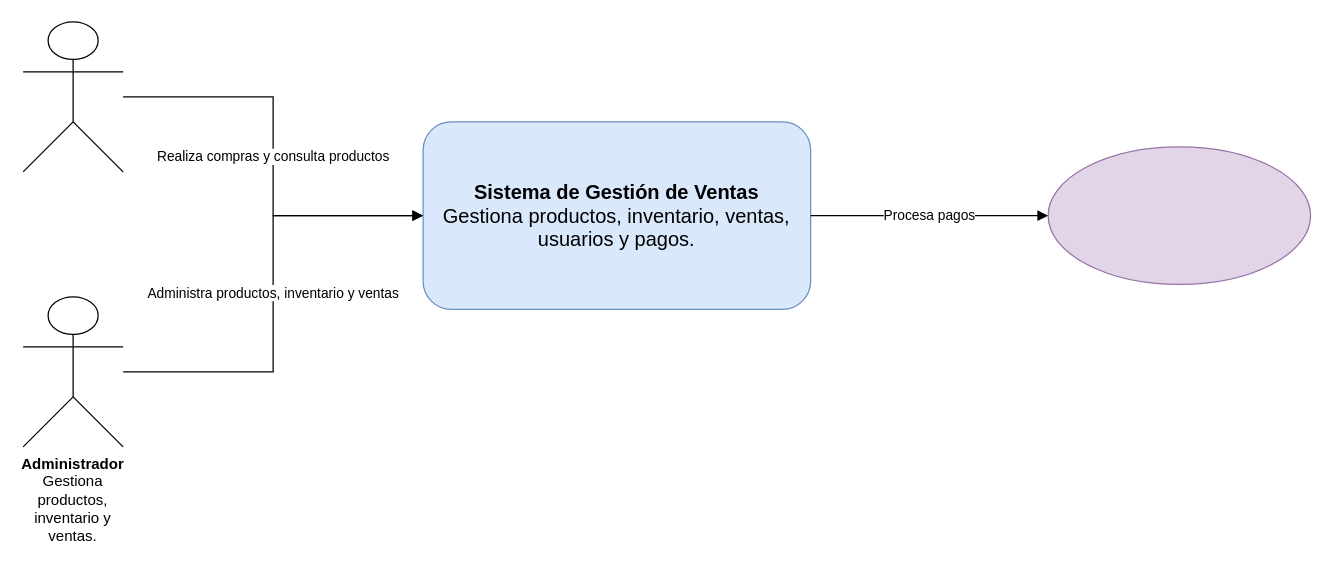
The diagram is 1333 pixels wide and 568 high, and some of its shapes have lost their labels. The centre of each missing label's shape, as x and y in pixels:
Cliente Consulta productos y realiza compras.: (72,96)
Pasarela de Pagos Servicio externo para procesar pagos.: (1179,215)
